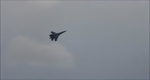maybay_muctieu: (48, 30, 67, 42)
